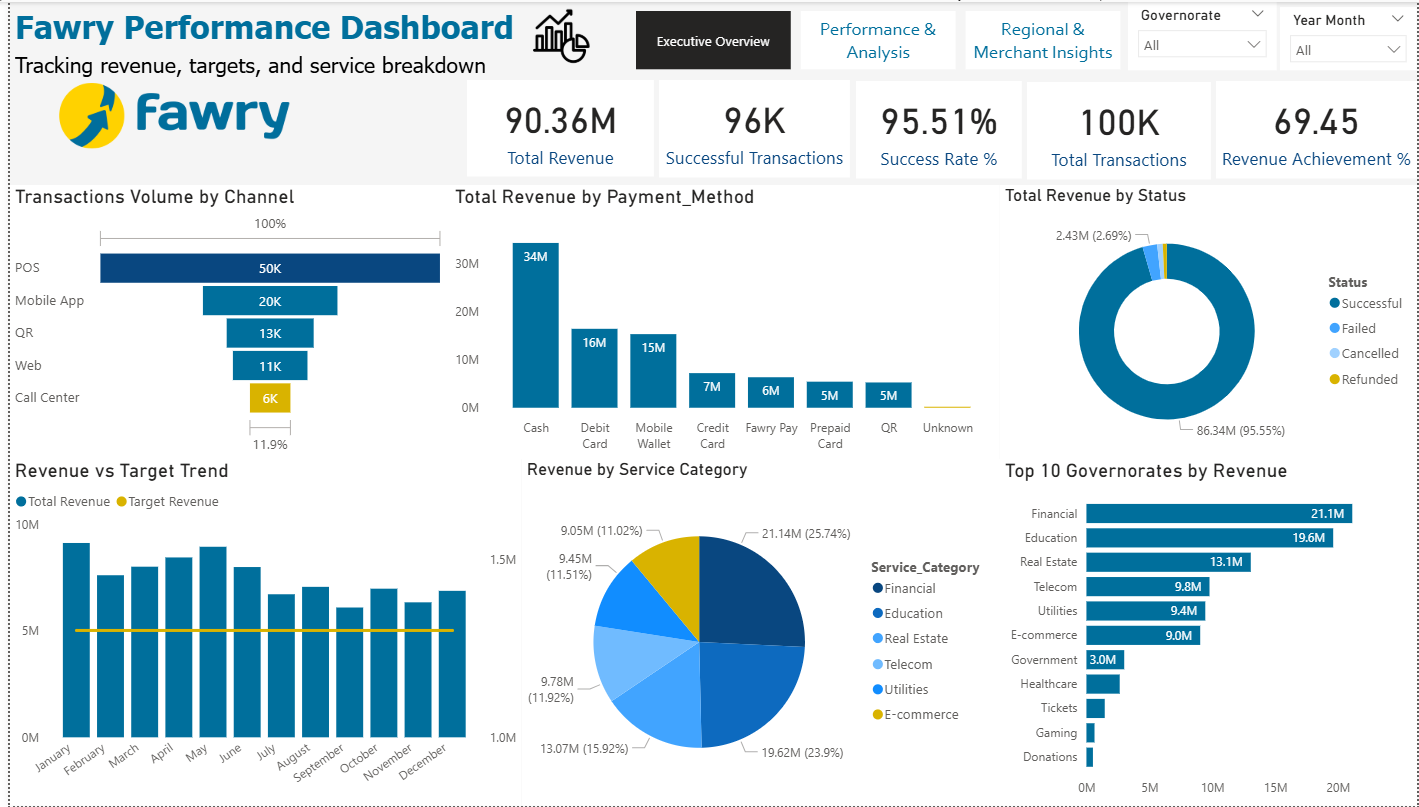

The page's visual inventory and layout, read from the dashboard file:
{"tool":"powerbi","page":{"name":"Executive Overview","canvas":[1400,800],"ordinal":0},"visuals":[{"type":"card","fields":{"Values":["Transactions.Total Revenue"]},"box":[454.7,77.6,186.1,95.5],"z":0},{"type":"card","fields":{"Values":["Transactions.Revenue Achievement %"]},"box":[1200,78.6,200,96.5],"z":1000},{"type":"card","fields":{"Values":["Transactions.Total Transactions"]},"box":[1011.9,79.6,183.1,96.5],"z":2000},{"type":"card","fields":{"Values":["Transactions.Successful Transactions"]},"box":[645.8,77.6,190,96.5],"z":3000},{"type":"card","fields":{"Values":["Transactions.Success Rate %"]},"box":[841.8,78.6,165.2,96.5],"z":4000},{"type":"textbox","box":[0,0,559.2,74.6],"z":5000},{"type":"textbox","box":[0,44.8,484.6,34.8],"z":6000},{"type":"image","box":[5,75.6,317.4,74.6],"z":7000},{"type":"lineClusteredColumnComboChart","title":"Revenue vs Target Trend","fields":{"Category":["Customers.Registration_Date.Variation.Date Hierarchy.Month"],"Y":["Transactions.Total Revenue"],"Y2":["Transactions.Target Revenue"]},"box":[0,454.7,509.5,345.3],"z":8000},{"type":"pieChart","title":"Revenue by Service Category","fields":{"Category":["Services.Service_Category"],"Y":["Transactions.Total Revenue"]},"box":[509.5,454.7,475.6,345.3],"z":9000},{"type":"clusteredBarChart","title":"Top 10 Governorates by Revenue","fields":{"Category":["Services.Service_Category"],"Y":["Transactions.Total Revenue"]},"box":[985.1,454.7,414.9,345.3],"z":10000},{"type":"donutChart","fields":{"Category":["Transactions.Status"],"Y":["Transactions.Total Revenue"]},"box":[985.1,182.1,414.9,272.6],"z":11000},{"type":"clusteredColumnChart","fields":{"Category":["Transactions.Payment_Method"],"Y":["Transactions.Total Revenue"]},"box":[437.8,182.1,547.3,272.6],"z":12000},{"type":"funnel","title":"Transactions Volume by Channel","fields":{"Category":["Transactions.Channel"],"Y":["Transactions.Total Transactions"]},"box":[0,182.1,437.8,272.6],"z":13000},{"type":"slicer","fields":{"Values":["DateTable.Year Month"]},"box":[1263.7,5,136.3,62.7],"z":14000},{"type":"slicer","fields":{"Values":["Customers.Governorate"]},"box":[1112.4,0,148.3,67.7],"z":15000},{"type":"pageNavigator","box":[623.1,9.3,484.9,58.8],"z":16000},{"type":"image","box":[484.6,0,128.4,67.7],"z":17000}]}

Visuals, with their boxes in screenshot pixels (x1, y1, x2, y2), scaled from the page's 1400x800 canvas onto the 1419x807 screenshot:
card - Transactions.Total Revenue: (461,78,649,175)
card - Transactions.Revenue Achievement %: (1216,79,1418,177)
card - Transactions.Total Transactions: (1026,80,1211,178)
card - Transactions.Successful Transactions: (655,78,847,176)
card - Transactions.Success Rate %: (853,79,1021,177)
textbox: (0,0,567,75)
textbox: (0,45,491,80)
image: (5,76,327,152)
"Revenue vs Target Trend" lineClusteredColumnComboChart: (0,459,516,806)
"Revenue by Service Category" pieChart: (516,459,998,806)
"Top 10 Governorates by Revenue" clusteredBarChart: (998,459,1418,806)
donutChart - Transactions.Status x Transactions.Total Revenue: (998,184,1418,459)
clusteredColumnChart - Transactions.Payment_Method x Transactions.Total Revenue: (444,184,998,459)
"Transactions Volume by Channel" funnel: (0,184,444,459)
slicer - DateTable.Year Month: (1281,5,1418,68)
slicer - Customers.Governorate: (1127,0,1278,68)
pageNavigator: (632,9,1123,69)
image: (491,0,621,68)
